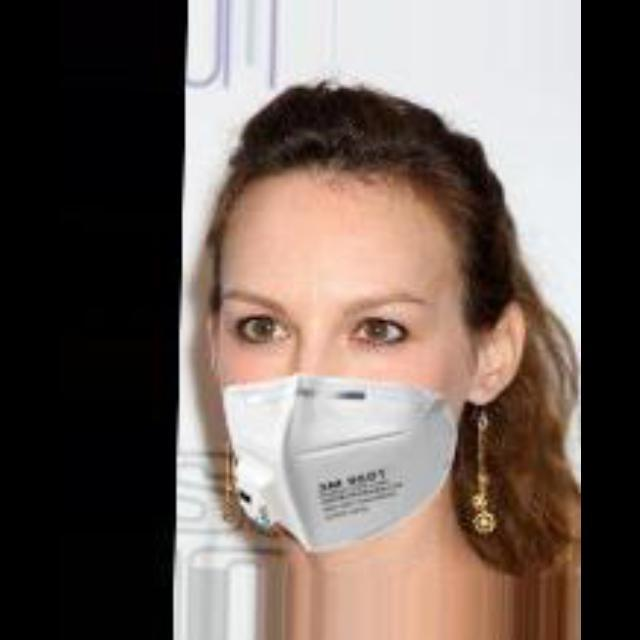suspicion: (172, 117, 512, 533)
